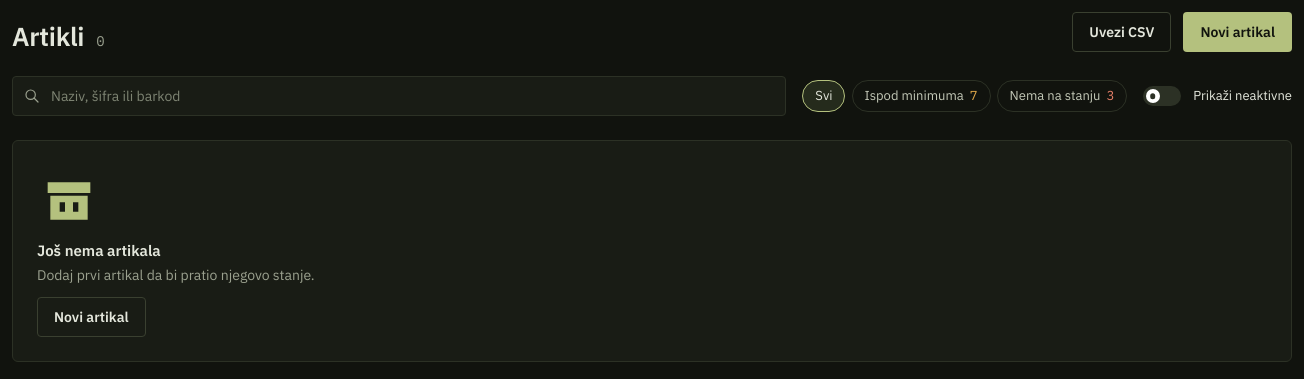
Scenario: ItemsPage › Search_Typed_RequestsFilteredListFromServer
expect the heading "Još nema artikala" is shown: met, box [37,241,161,260]
Type "etiop" into the search field with placeholder "Naziv, šifra ili barkod" at coordinates (399, 96), box [12,76,786,116]
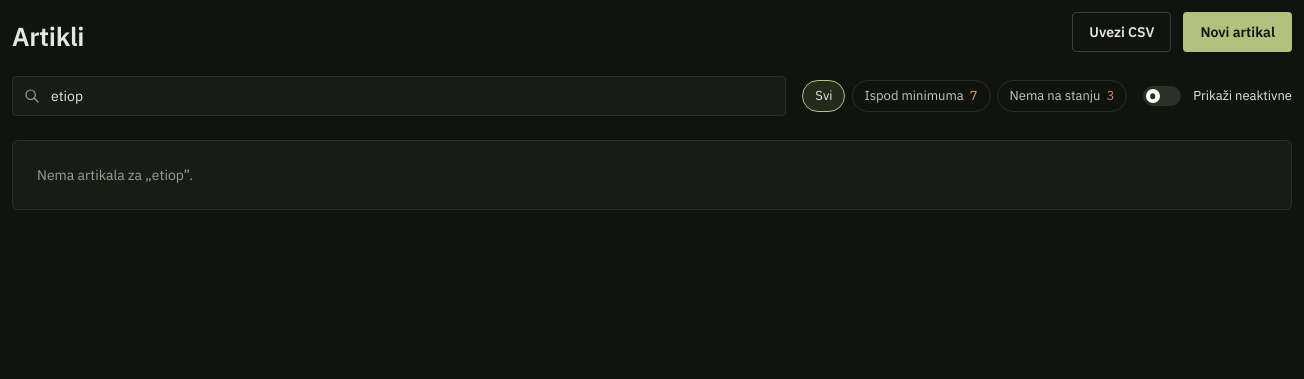
expect the text "Nema artikala za „etiop”." is shown: met, box [37,166,193,184]
